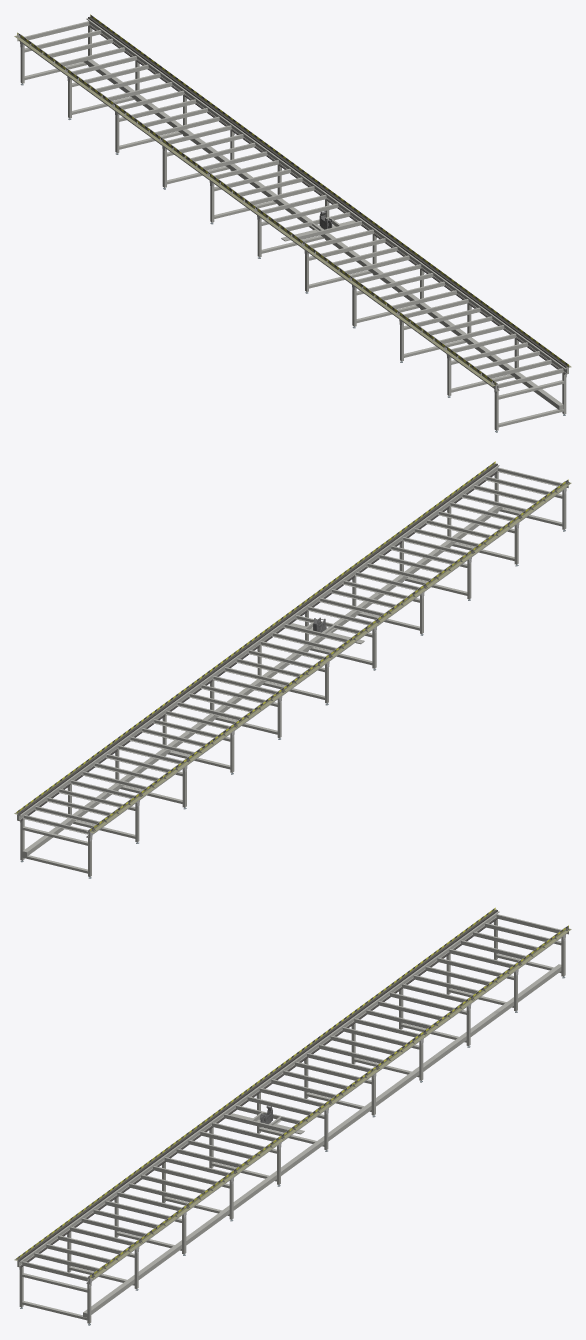
File: liushui5.FBX
3 views of the same model, one above another, from view 1: azimuth 30°, elevation 25°; view 2: azimuth 150°, elevation 25°; view 3: azimuth 330°, elevation 25° (orthographic).
Visible parts, largest first — view 1: YF_Model_liushui5; view 2: YF_Model_liushui5; view 3: YF_Model_liushui5.
Part boxes in pixels (x1=…): YF_Model_liushui5: x1=14, y1=14, x2=571, y2=432; YF_Model_liushui5: x1=14, y1=461, x2=571, y2=878; YF_Model_liushui5: x1=14, y1=907, x2=571, y2=1325.
Bounding box in the file's own units: 97 × 66.75 × 1009.
1 material, 1 textured.
